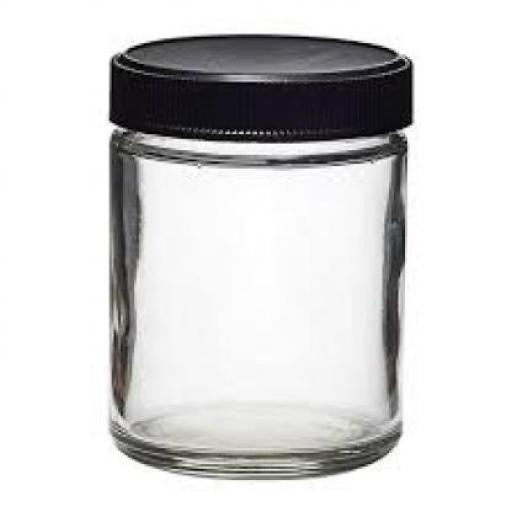glass: (107, 123, 405, 478)
plastic: (107, 32, 410, 142)
